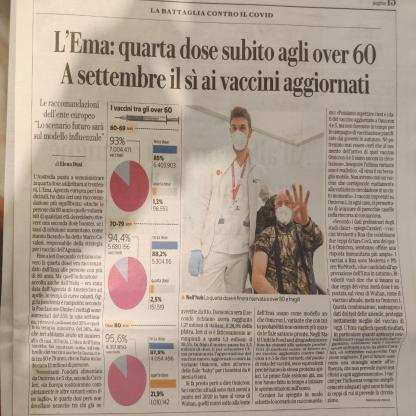immagine: (181, 102, 329, 299), (106, 103, 181, 414)
testo_col: (326, 102, 406, 413), (25, 167, 105, 415), (252, 306, 329, 414), (178, 306, 254, 414)
titolo: (42, 19, 384, 98)
